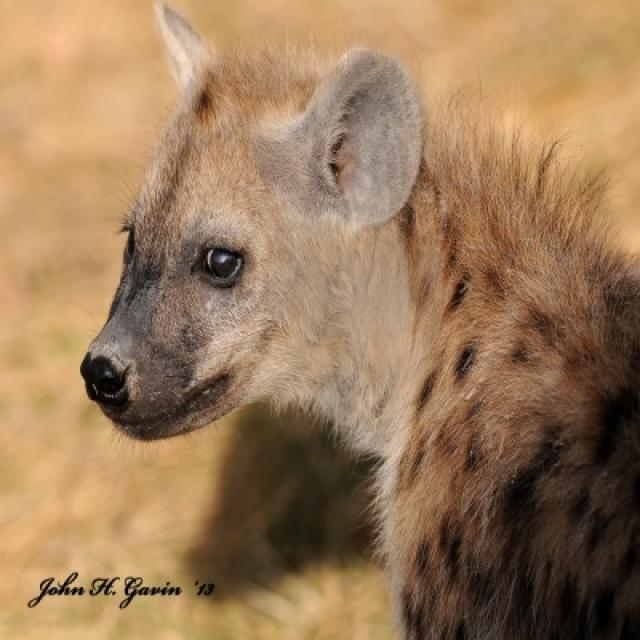hyena: (80, 3, 638, 638)
